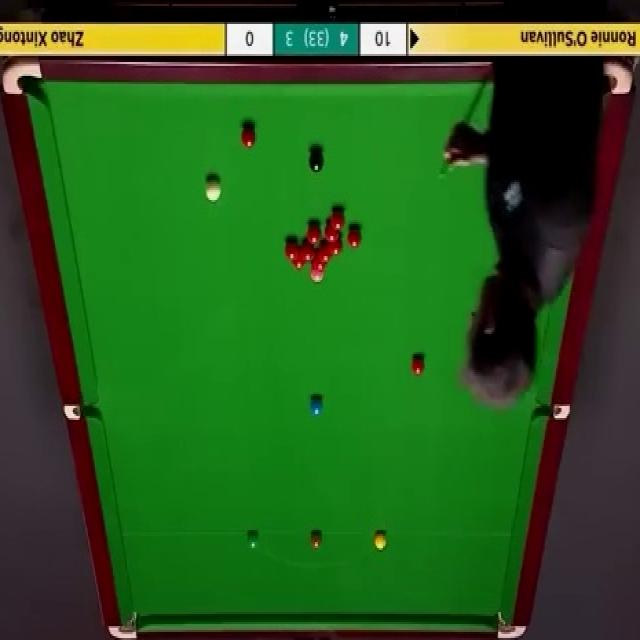pocket: (1, 55, 45, 100), (495, 606, 531, 640), (106, 608, 142, 640), (604, 61, 633, 94), (67, 405, 103, 420), (540, 405, 574, 420)
